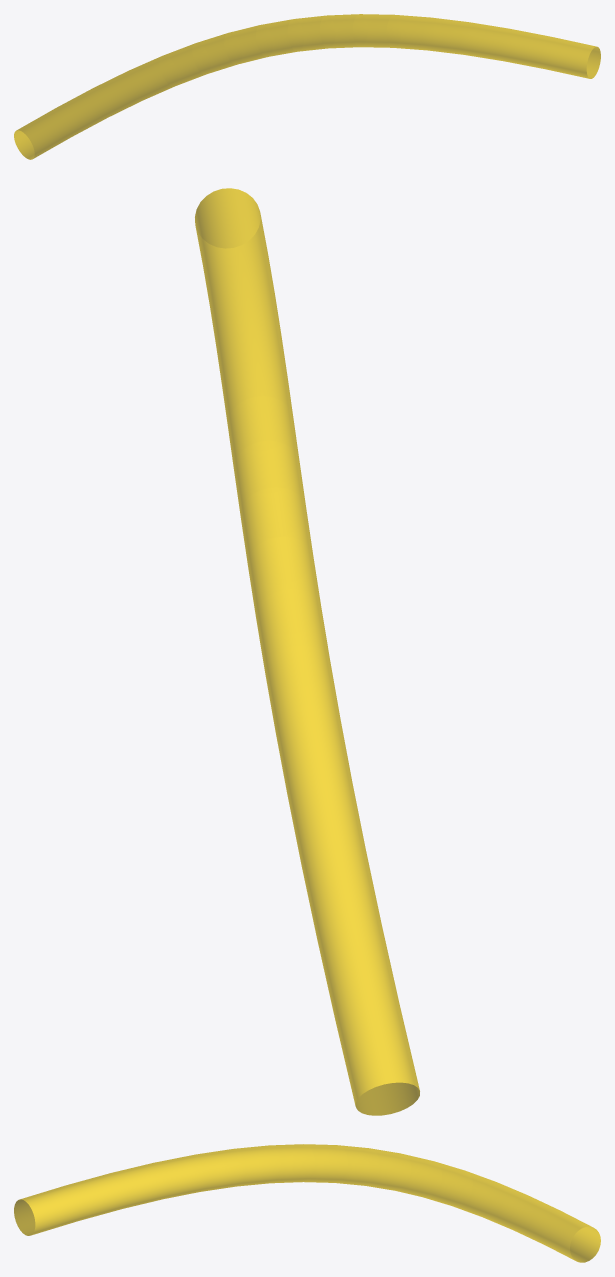
The model's file is Event_100608114_track_108.fbx.
3 renders of one model, top to bottom at view 1: azimuth 30°, elevation 25°; view 2: azimuth 150°, elevation 25°; view 3: azimuth 270°, elevation 25°, orthographic. The views are drawn at different scales.
Visible parts, largest first — view 1: Model; view 2: Model; view 3: Model.
Part boxes in pixels (bbox=[...]): Model: bbox=[14, 14, 600, 159]; Model: bbox=[195, 188, 419, 1115]; Model: bbox=[14, 1144, 600, 1262].
Size of the model in its own units: 0.4857 by 0.2794 by 0.6184.
